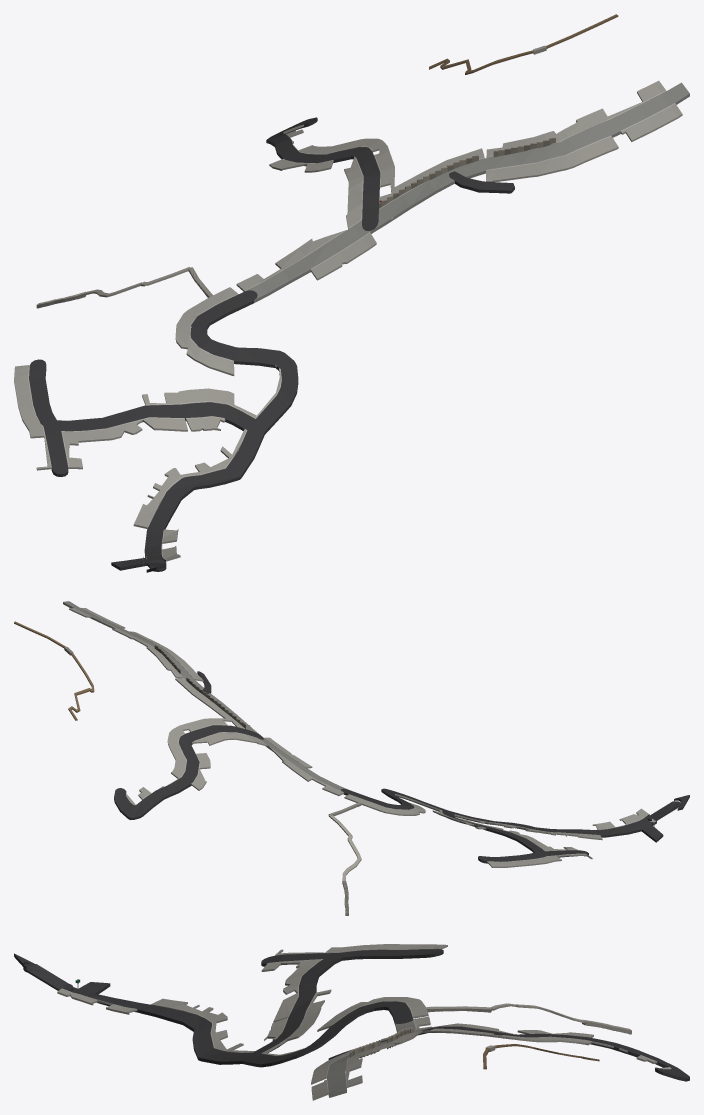
3 renders of one model, top to bottom at view 1: azimuth 30°, elevation 25°; view 2: azimuth 150°, elevation 25°; view 3: azimuth 270°, elevation 25°, orthographic. The views are drawn at different scales.
Size of the model in its own units: 293 by 106 by 235.
